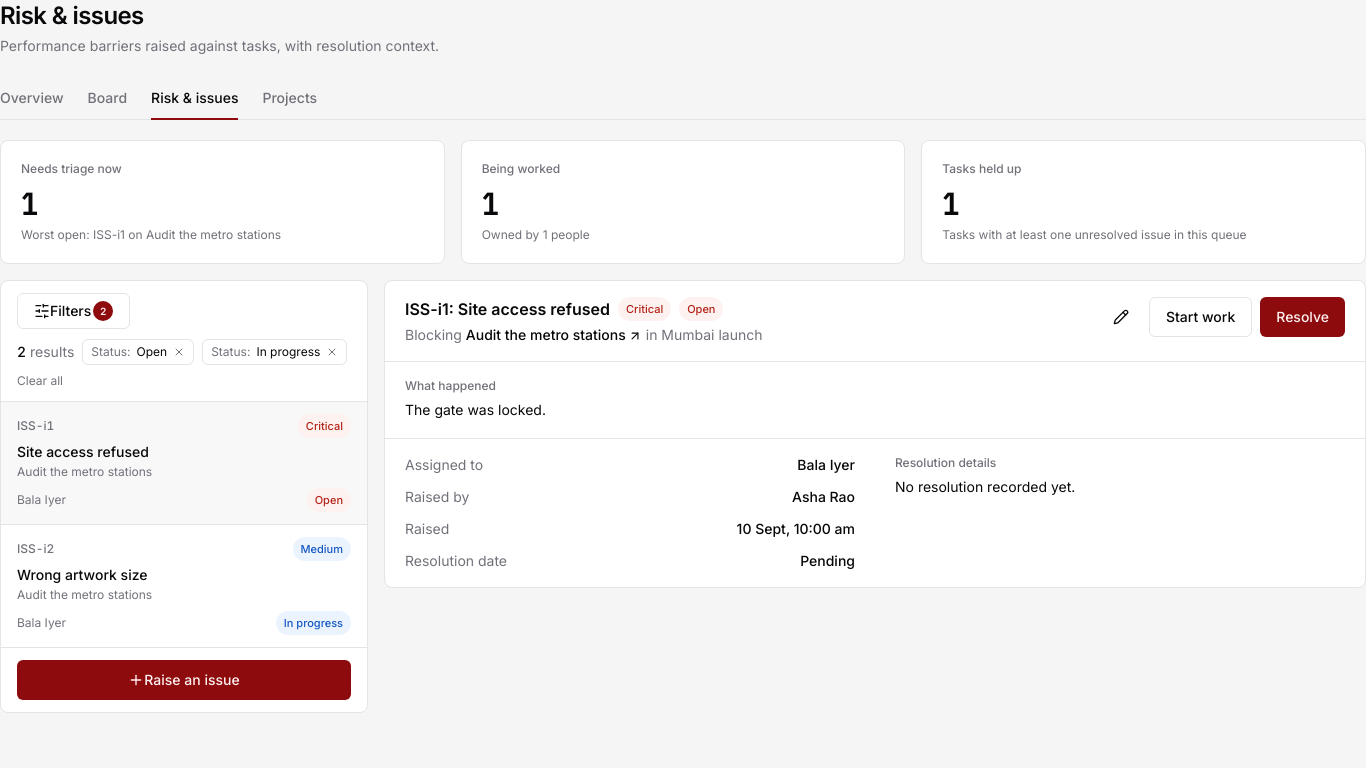
the risk log › reads the open queue by default, draws the chip counts off the read and links an issue to its task
Check: the list with test id "issue-queue" is shown, box [1,402,367,647]
Check: the text "ISS-i1" is shown, box [17,418,54,434]
Click the button "Filters 2" at (74, 311), box [17,293,130,329]
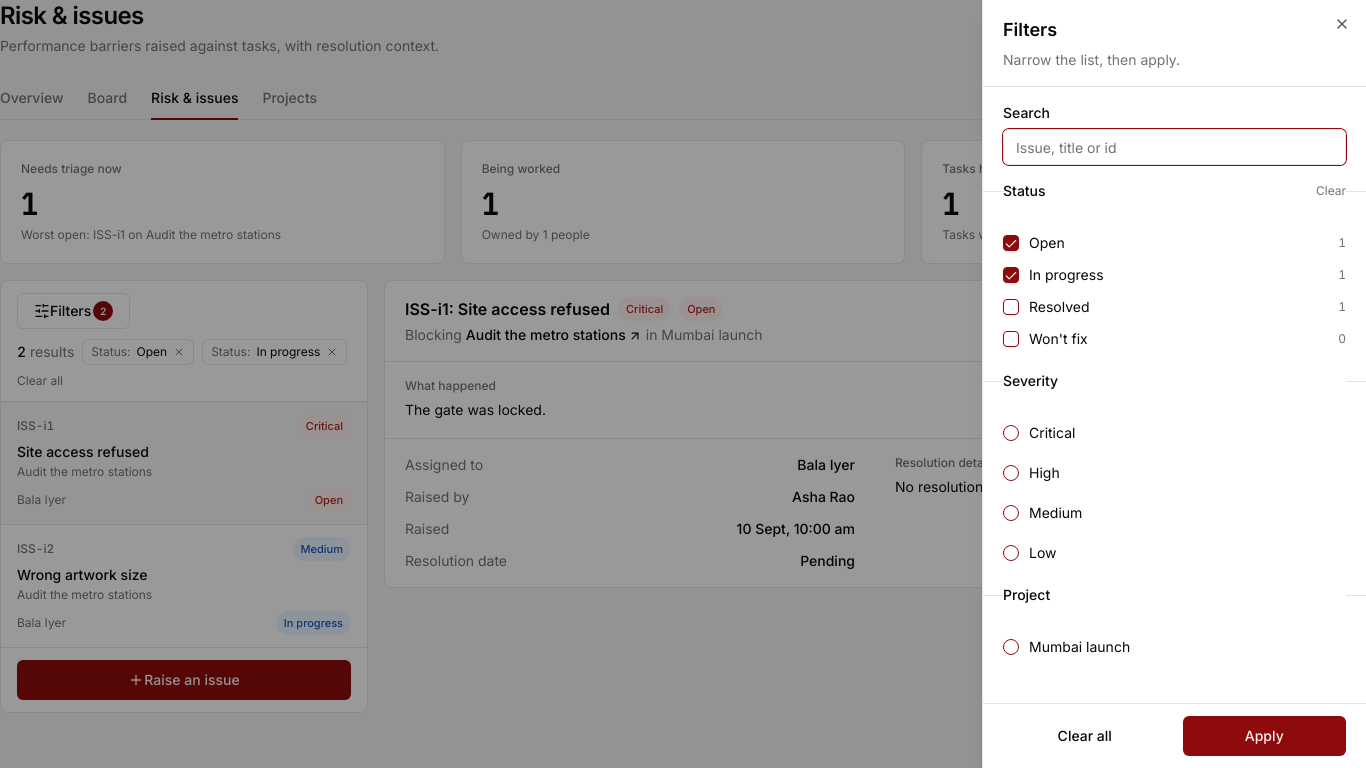
Check: the text "Resolved" is shown, box [1029,298,1090,315]
